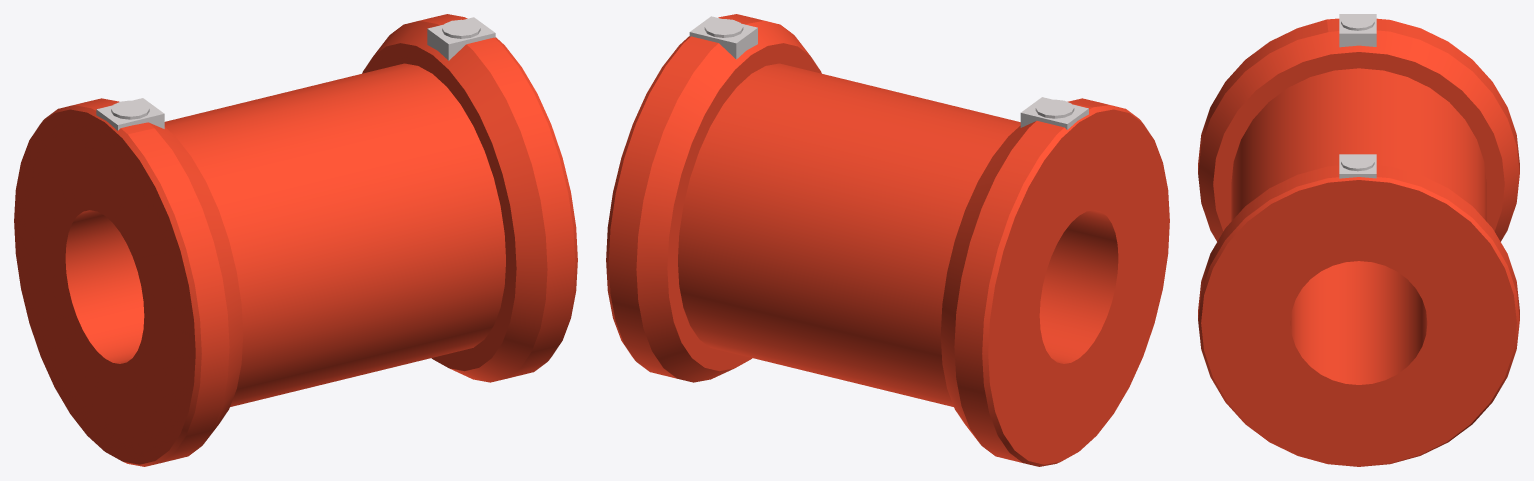
Rendered from pipe_middle.fbx.
3 views of the same model, side by side, from view 1: azimuth 30°, elevation 25°; view 2: azimuth 150°, elevation 25°; view 3: azimuth 270°, elevation 25° (orthographic). The views are drawn at different scales.
Visible parts, largest first — view 1: Pipe_middle; view 2: Pipe_middle; view 3: Pipe_middle.
Boxes of the visible parts, left/top/right/bottom form: Pipe_middle: left=14, top=14, right=577, bottom=466; Pipe_middle: left=606, top=14, right=1169, bottom=466; Pipe_middle: left=1198, top=14, right=1519, bottom=466.
Bounding box in the file's own units: 100 × 85.19 × 83.91.
